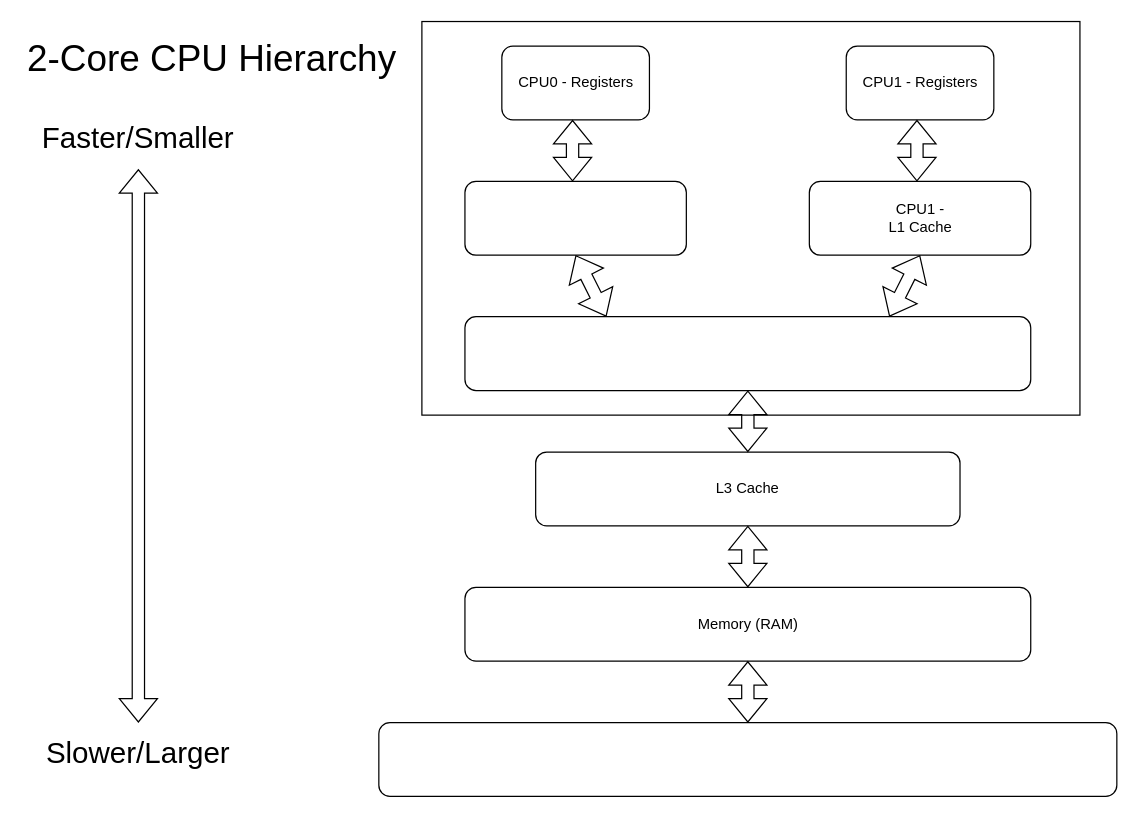
Image size: 1138x818. Some labels were removed from this diagram. The box of each missing label's shape, as (x1, y1, x2, y2) in pixels:
CPU 0 & 1 - L2 Cache: (464, 315, 1031, 391)
CPU0 - L1 Cache: (464, 180, 686, 255)
Storage (HDD, SSD, NVMe): (378, 721, 1117, 796)
